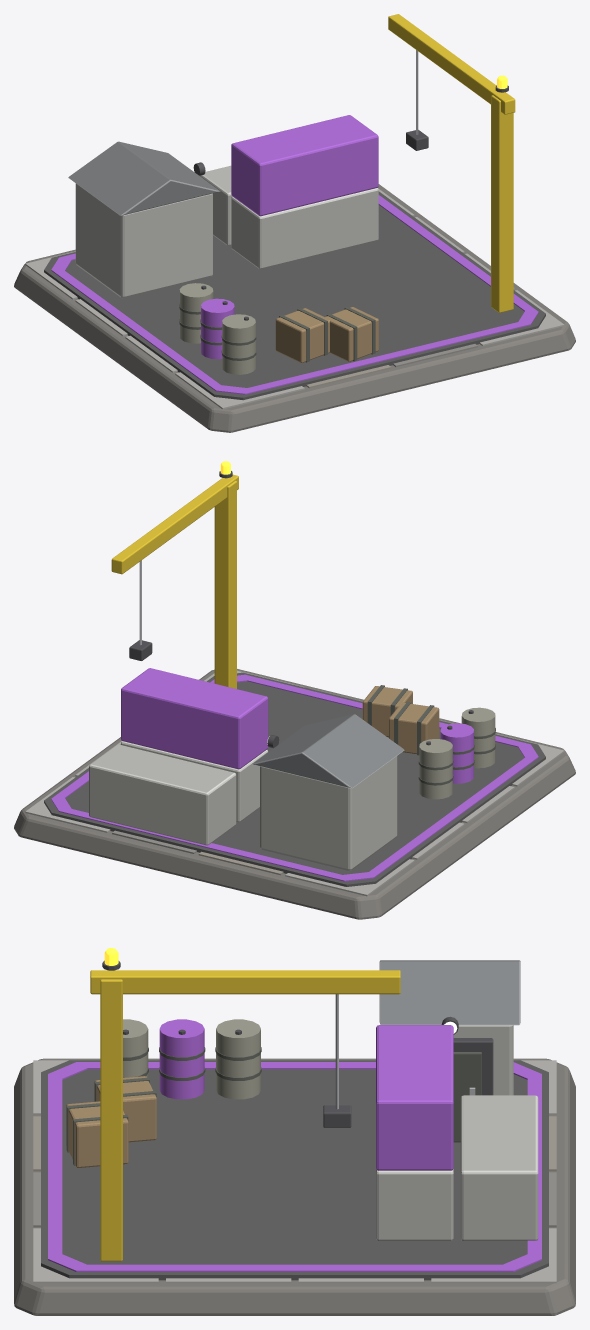
The model's file is supply_depot_purple.glb.
3 renders of one model, top to bottom at view 1: azimuth 30°, elevation 25°; view 2: azimuth 150°, elevation 25°; view 3: azimuth 270°, elevation 25°, orthographic. The views are drawn at different scales.
Visible parts, largest first — view 1: Body; view 2: Body; view 3: Body.
Part boxes in pixels (x1,y1,x2,y2): Body: [14, 14, 575, 432]; Body: [14, 461, 575, 919]; Body: [14, 948, 575, 1315].
Bounding box in the file's own units: 3.98 × 2.65 × 3.98.
Materials: 1 (1 with a texture image).
